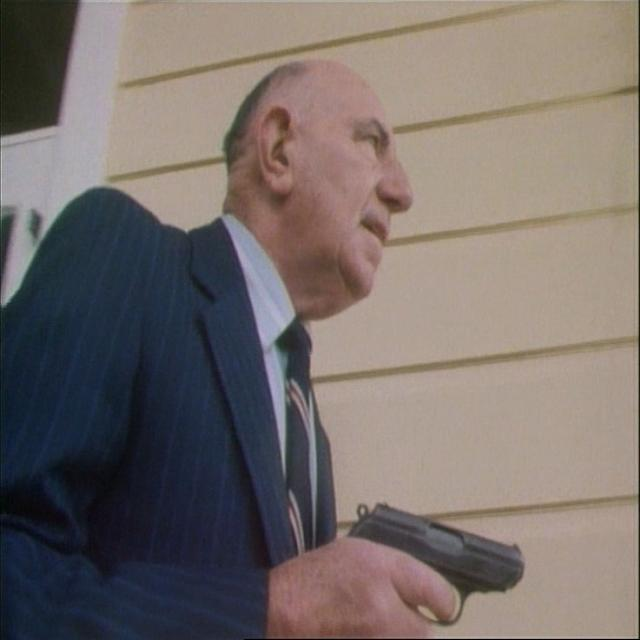gun-knife-thesis - v11 Yolov5 augmented: (346, 496, 528, 639)
